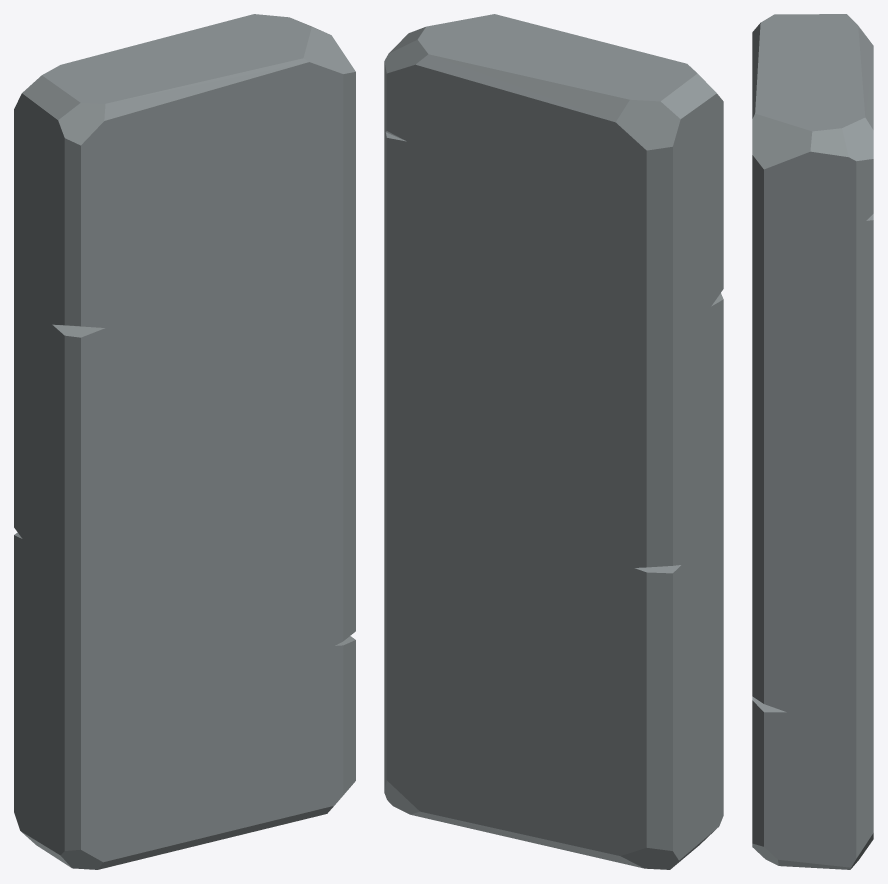
The model's file is NHP_Rock_Monolith_A1_01.fbx.
The picture shows the model from 3 angles, left to right: view 1: azimuth 30°, elevation 25°; view 2: azimuth 150°, elevation 25°; view 3: azimuth 270°, elevation 25°; orthographic projection. The views are drawn at different scales.
Parts seen in each view (by area): view 1: NHP_Rock_Monolith_A1_01; view 2: NHP_Rock_Monolith_A1_01; view 3: NHP_Rock_Monolith_A1_01.
Part boxes in pixels (left/top/right/bottom): NHP_Rock_Monolith_A1_01: left=14, top=14, right=355, bottom=869; NHP_Rock_Monolith_A1_01: left=384, top=14, right=723, bottom=869; NHP_Rock_Monolith_A1_01: left=752, top=14, right=873, bottom=869.
Size of the model in its own units: 1.59 by 4 by 0.6.
